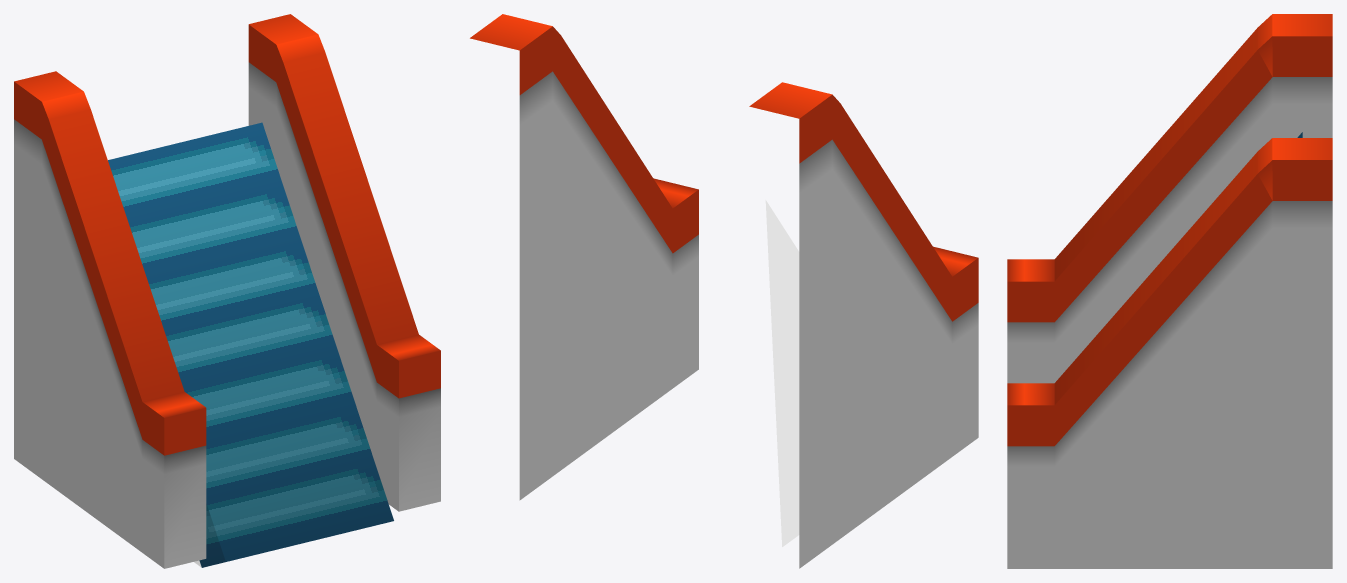
The picture shows the model from 3 angles, left to right: view 1: azimuth 30°, elevation 25°; view 2: azimuth 150°, elevation 25°; view 3: azimuth 270°, elevation 25°; orthographic projection. The views are drawn at different scales.
Size of the model in its own units: 2.88 by 3.88 by 2.71.
Materials: 4 (3 with a texture image).
